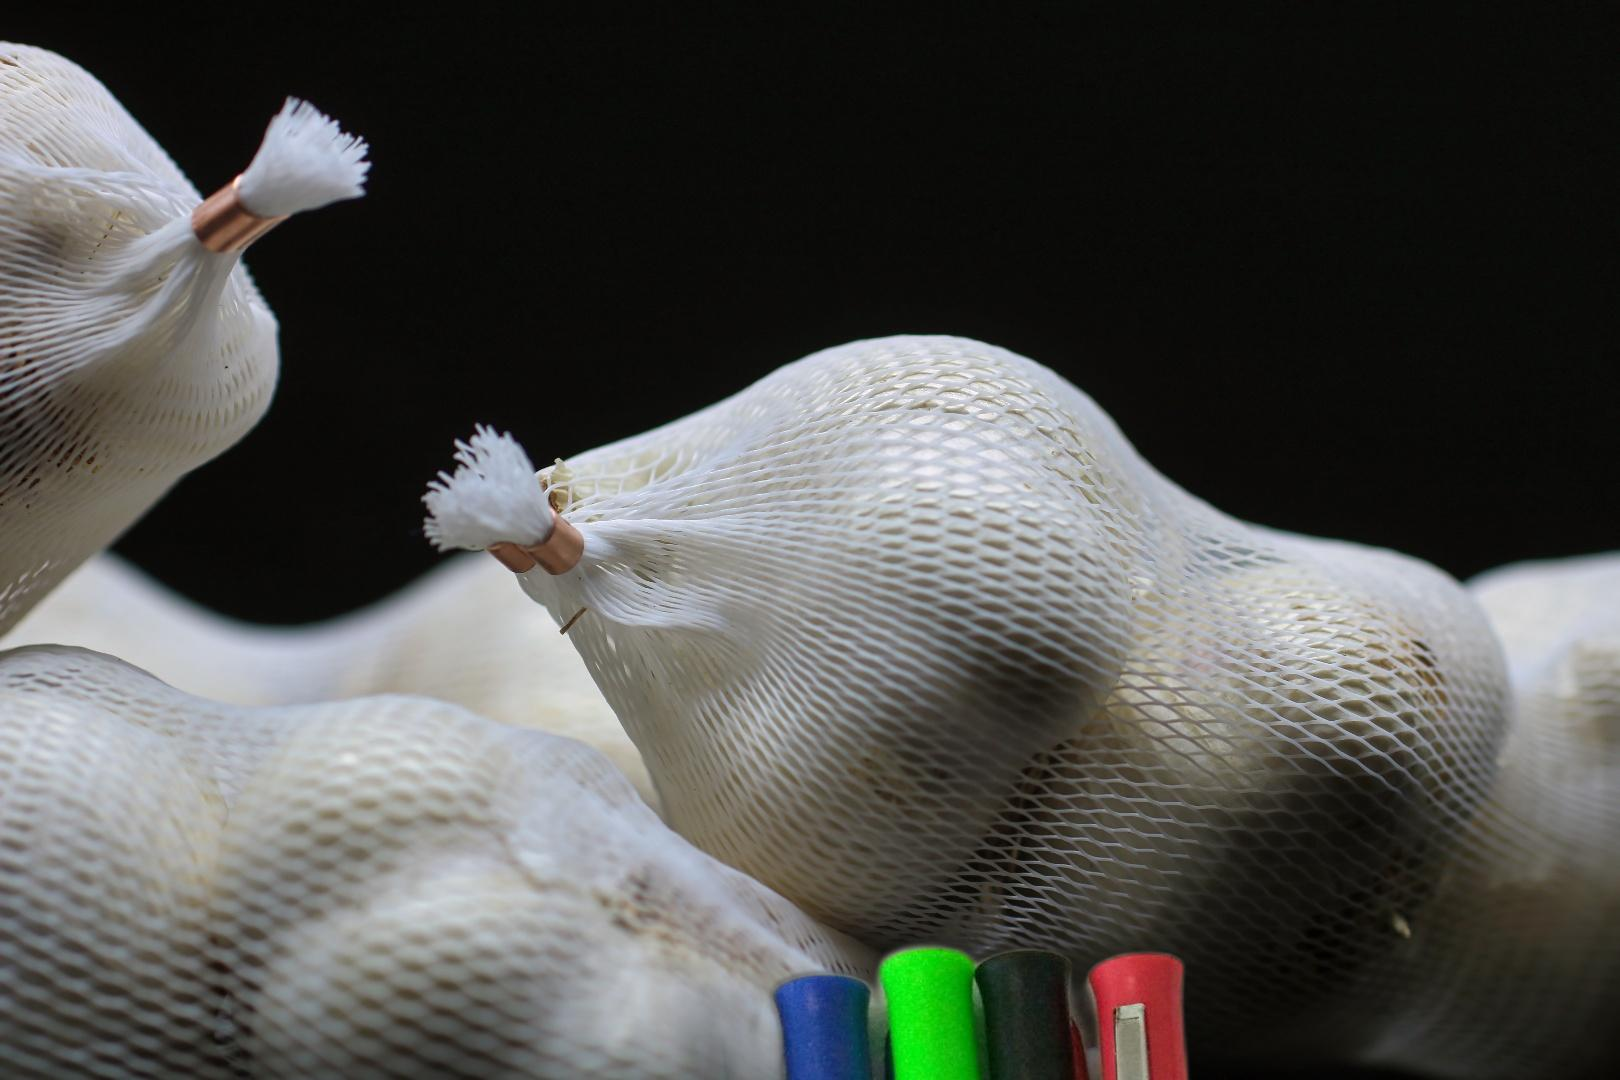penholder: (656, 937, 1290, 1080)
